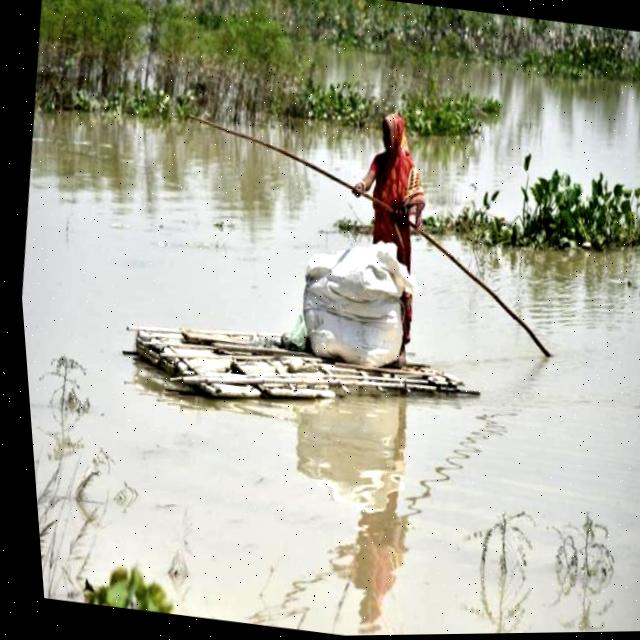civilian: (325, 100, 468, 363)
